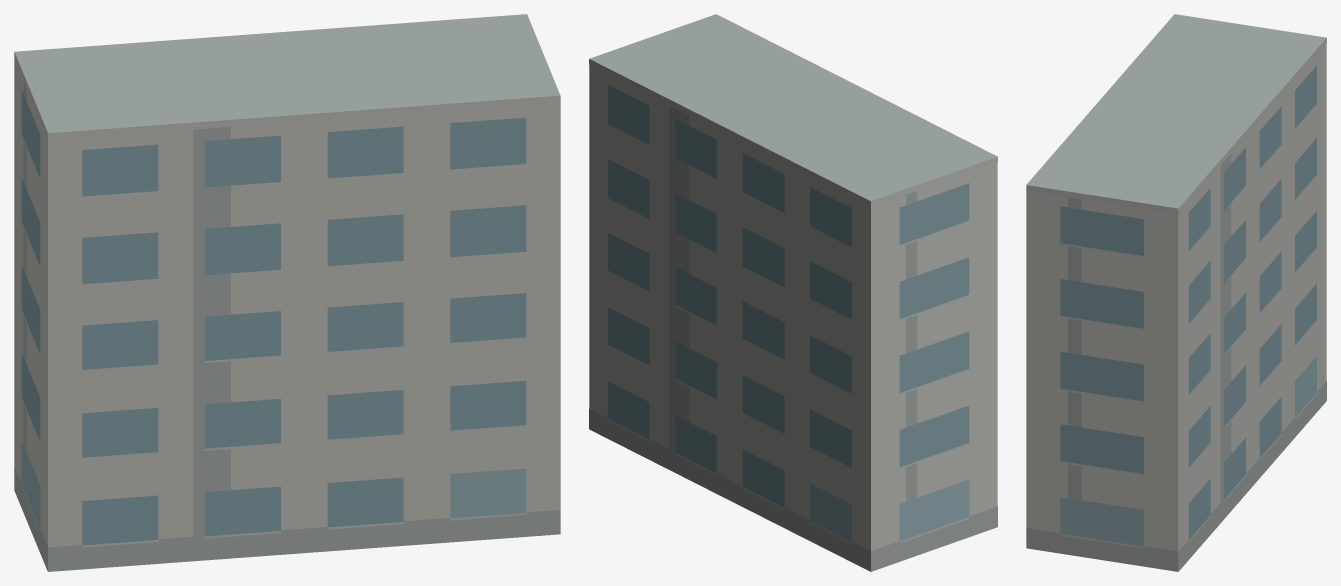
File: residential-530b2d73-412e-469b-a9ce-4bf71851c4d5.glb
3 renders of one model, left to right at view 1: azimuth 30°, elevation 25°; view 2: azimuth 150°, elevation 25°; view 3: azimuth 270°, elevation 25°, orthographic. The views are drawn at different scales.
Visible parts, largest first — view 1: residential-530b2d73-412e-469b-a9ce-4bf71851c4d5.tmp; view 2: residential-530b2d73-412e-469b-a9ce-4bf71851c4d5.tmp; view 3: residential-530b2d73-412e-469b-a9ce-4bf71851c4d5.tmp.
Part boxes in pixels (box(x1,y1,x2,y2)): residential-530b2d73-412e-469b-a9ce-4bf71851c4d5.tmp: box(14, 14, 560, 571); residential-530b2d73-412e-469b-a9ce-4bf71851c4d5.tmp: box(589, 14, 997, 571); residential-530b2d73-412e-469b-a9ce-4bf71851c4d5.tmp: box(1026, 14, 1326, 571).
Bounding box in the file's own units: 17.52 × 15.25 × 11.44.
